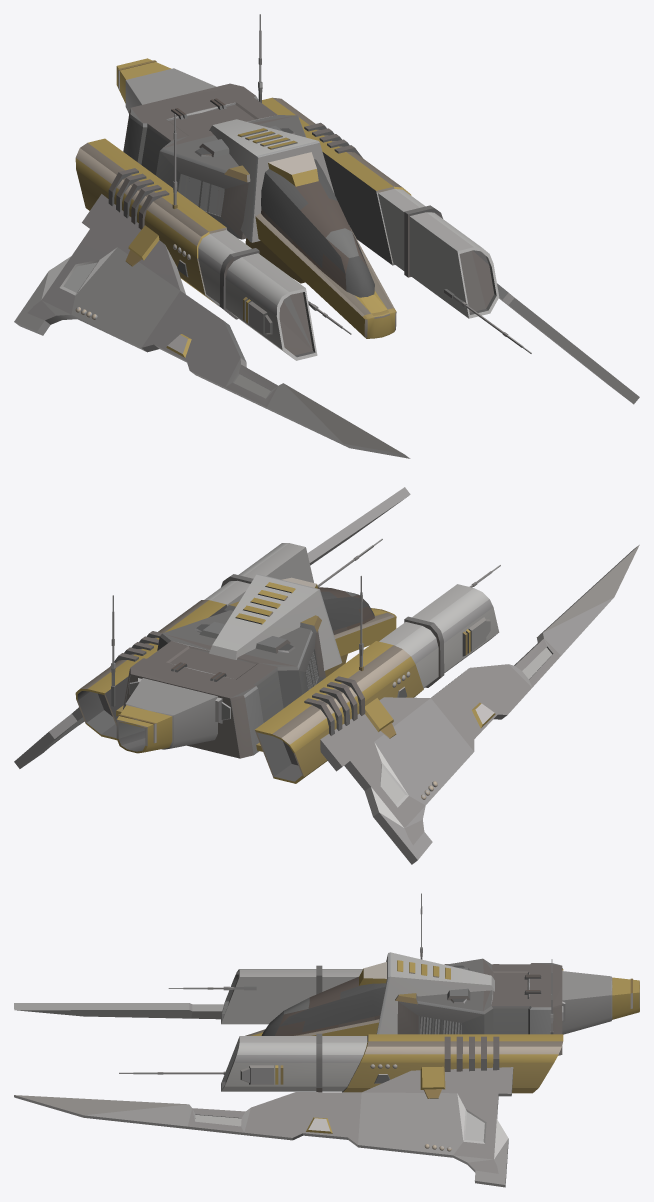
File: striker.glb
3 renders of one model, top to bottom at view 1: azimuth 30°, elevation 25°; view 2: azimuth 150°, elevation 25°; view 3: azimuth 270°, elevation 25°, orthographic. The views are drawn at different scales.
Parts seen in each view (by area): view 1: Striker; view 2: Striker; view 3: Striker.
Boxes of the visible parts, x1,y1,x2,y2 form: Striker: [14, 14, 639, 458]; Striker: [14, 487, 639, 864]; Striker: [14, 893, 639, 1187].
Size of the model in its own units: 5.03 by 2.68 by 8.43.
